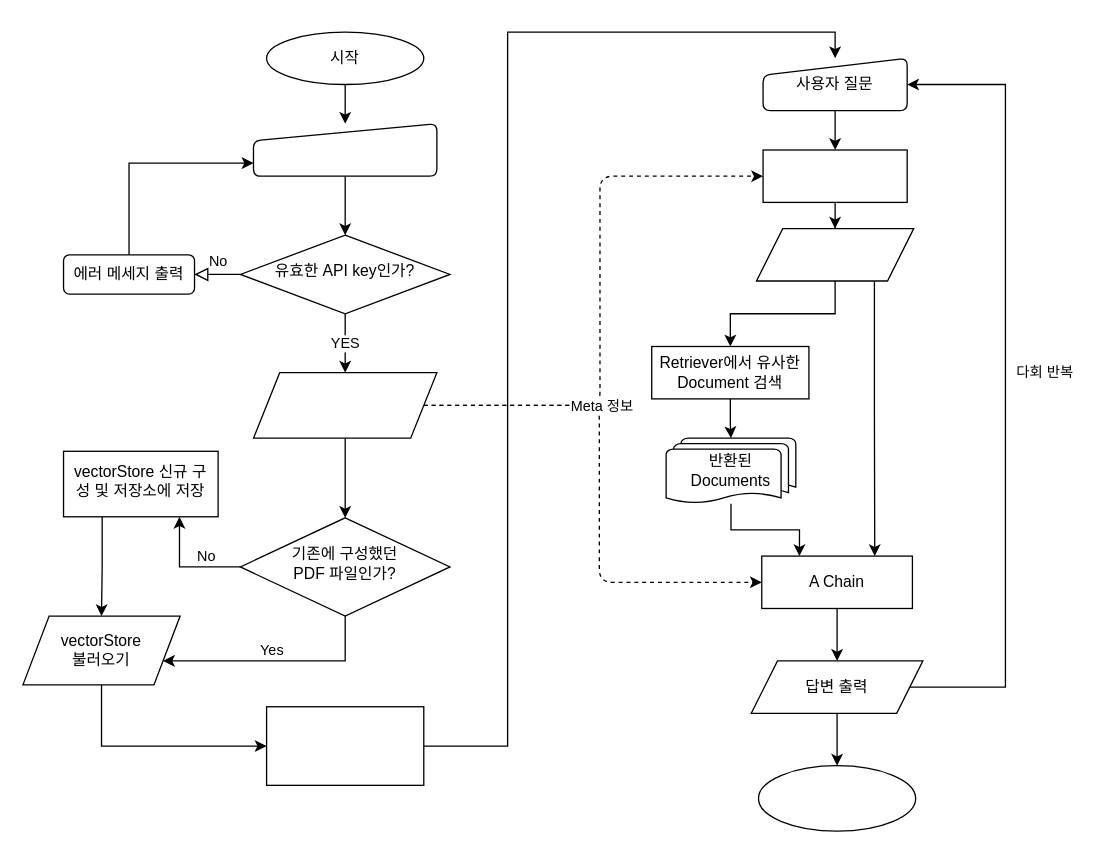
Image size: 1096x854. Some labels were removed from this diagram. The box of each missing label's shape, as (x1, y1, x2, y2) in pixels:
API key 입력: (252, 122, 437, 176)
PDF 파일 업로드: (252, 371, 437, 438)
Q Chain: (762, 149, 907, 202)
종료: (757, 764, 916, 831)
체인 준비 완료: (265, 705, 424, 785)
편집된 질문 & 언어 정보: (755, 227, 914, 281)
